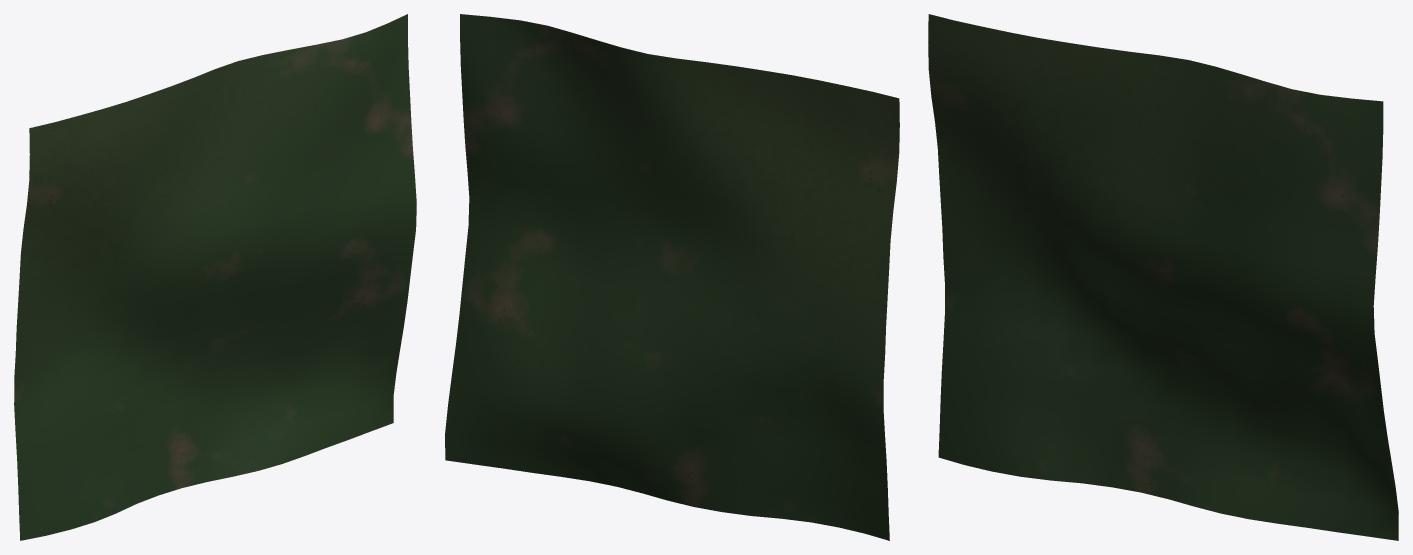
Rendered from terrain_far_04_00.obj.
3 renders of one model, left to right at view 1: azimuth 30°, elevation 25°; view 2: azimuth 150°, elevation 25°; view 3: azimuth 330°, elevation 25°, orthographic. The views are drawn at different scales.
Visible parts, largest first — view 1: terrain_far_04_00; view 2: terrain_far_04_00; view 3: terrain_far_04_00.
Part boxes in pixels (x1,y1,x2,y2): terrain_far_04_00: (14, 14, 416, 540); terrain_far_04_00: (445, 14, 899, 540); terrain_far_04_00: (928, 14, 1398, 540).
Bounding box in the file's own units: 640 × 640 × 103.
1 material, 1 textured.
